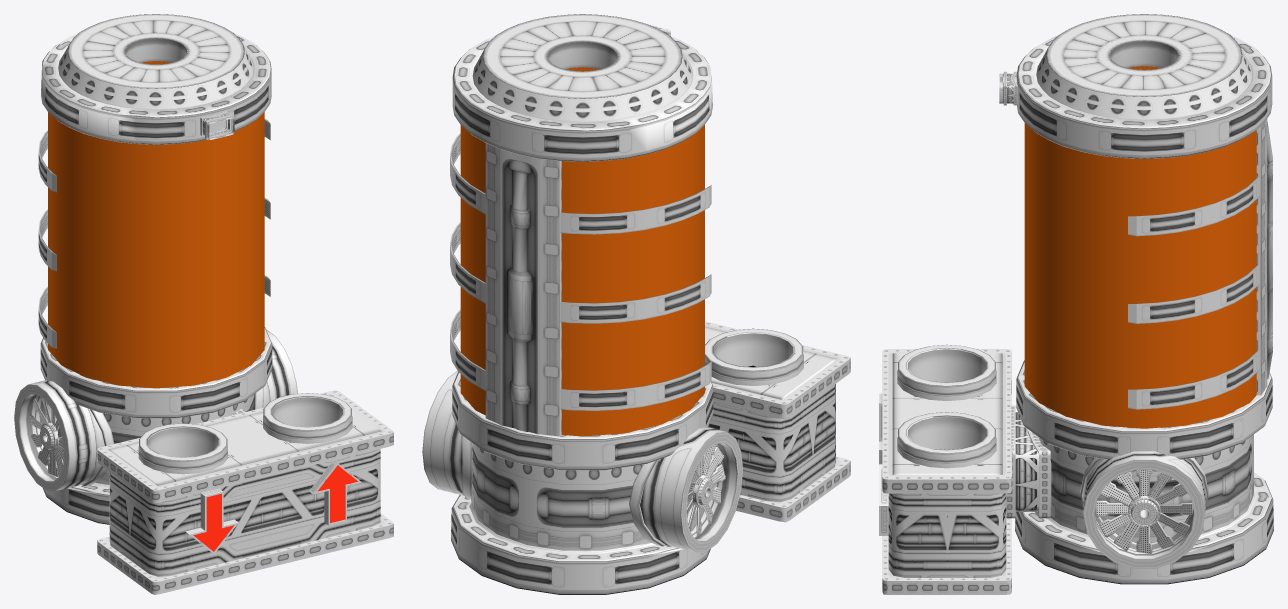
File: Dryer_VF.FBX
3 views of the same model, side by side, from view 1: azimuth 30°, elevation 25°; view 2: azimuth 150°, elevation 25°; view 3: azimuth 270°, elevation 25° (orthographic). The views are drawn at different scales.
Parts seen in each view (by area): view 1: Dryer_Body, Dryer_Glass, Fan_L; view 2: Dryer_Body, Dryer_Glass, Fan_L; view 3: Dryer_Body, Dryer_Glass, Fan_R.
Part boxes in pixels (left/top/right/bottom): Dryer_Body: left=14, top=14, right=393, bottom=594; Dryer_Glass: left=48, top=61, right=264, bottom=388; Fan_L: left=29, top=397, right=64, bottom=476; Dryer_Body: left=422, top=14, right=850, bottom=594; Dryer_Glass: left=460, top=67, right=704, bottom=436; Fan_L: left=686, top=444, right=725, bottom=537; Dryer_Body: left=879, top=14, right=1273, bottom=594; Dryer_Glass: left=1024, top=66, right=1256, bottom=428; Fan_R: left=1095, top=470, right=1193, bottom=553.
Bounding box in the file's own units: 119 × 209 × 153.
